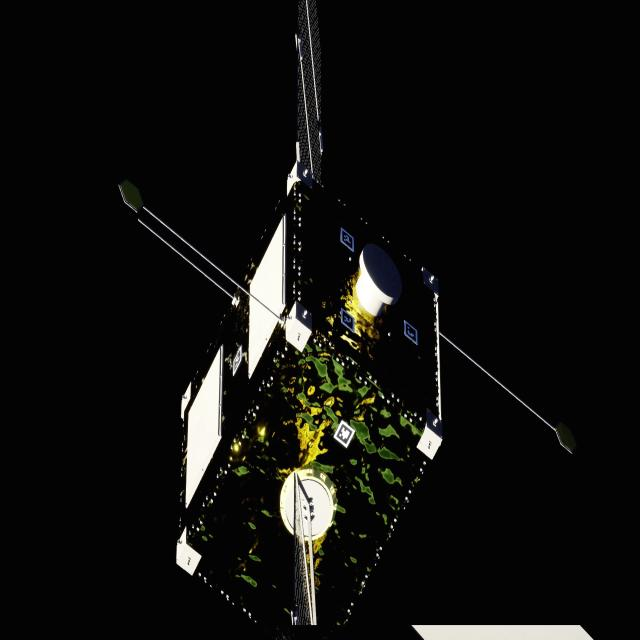satellite: (114, 0, 453, 640)
